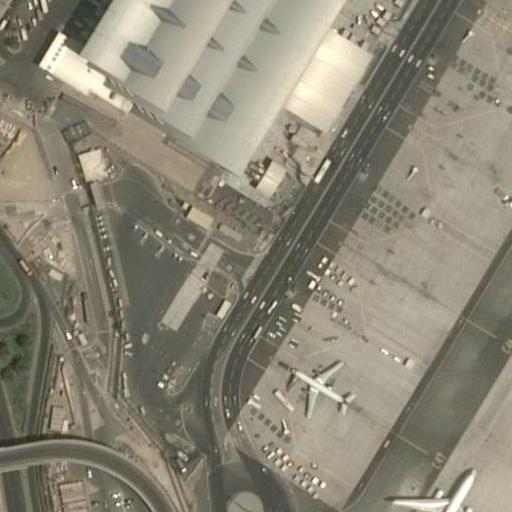Aircraft: (385, 465, 487, 512), (282, 359, 350, 413), (505, 144, 512, 263)
